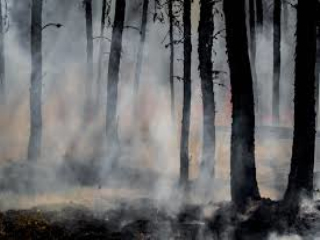smoke: (147, 83, 181, 197)
